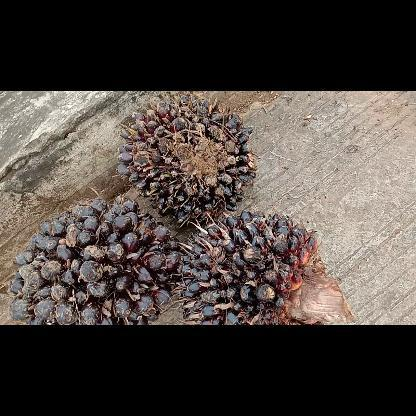TBS mentah: (6, 198, 186, 324), (178, 208, 359, 324), (115, 91, 260, 227)
